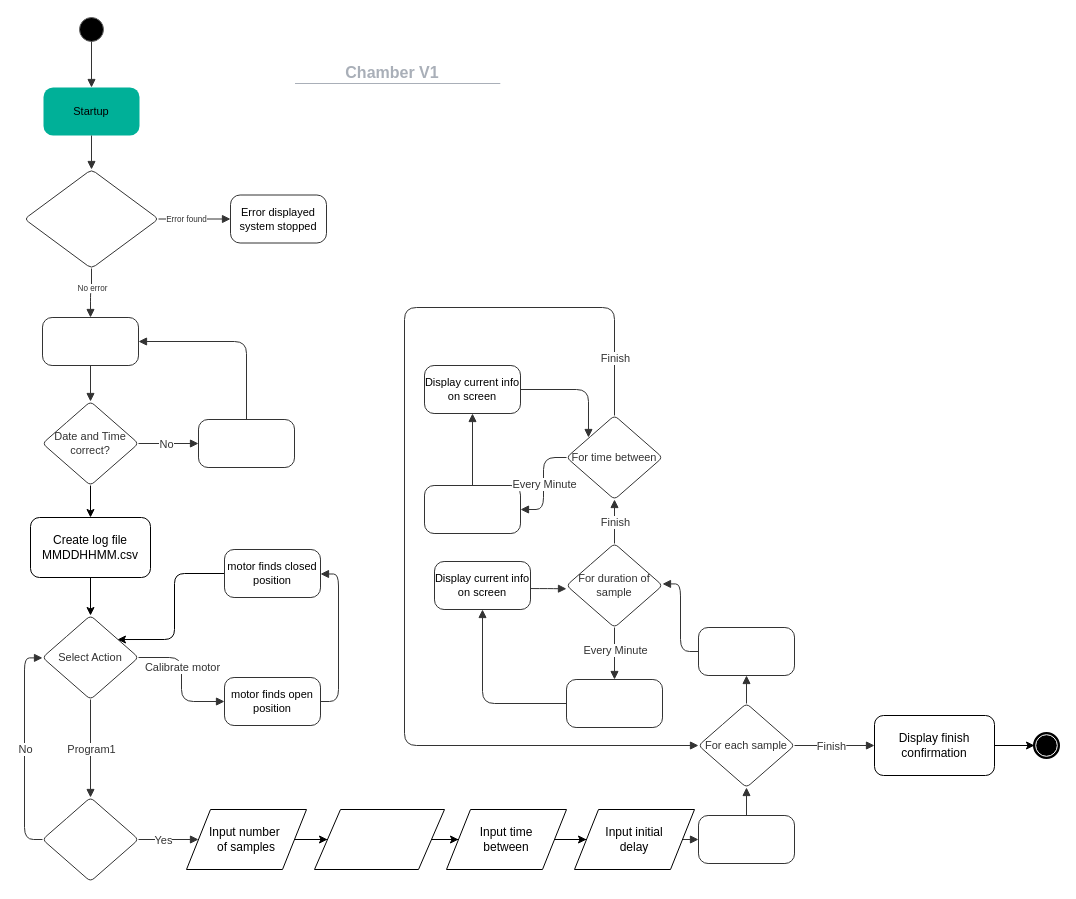
Some shapes in this 1076 by 899 pixel diagram are drawn without their labels. The shapes that lost their labels are listed below. From the top down, each one's centre as x and y in pixels, then its label:
point 91,218: Confirm RTC found and SD card inserted
point 90,341: Display Current Date and Time
point 246,443: Collect Date and Time info from user
point 472,509: Log sensor Data "IDLE"
point 746,651: Flush chamber
point 614,703: Log sensor Data "SAMPLE"
point 90,839: Has motor been calibrated?
point 379,839: Input sample duration
point 746,839: Wait initial delay
